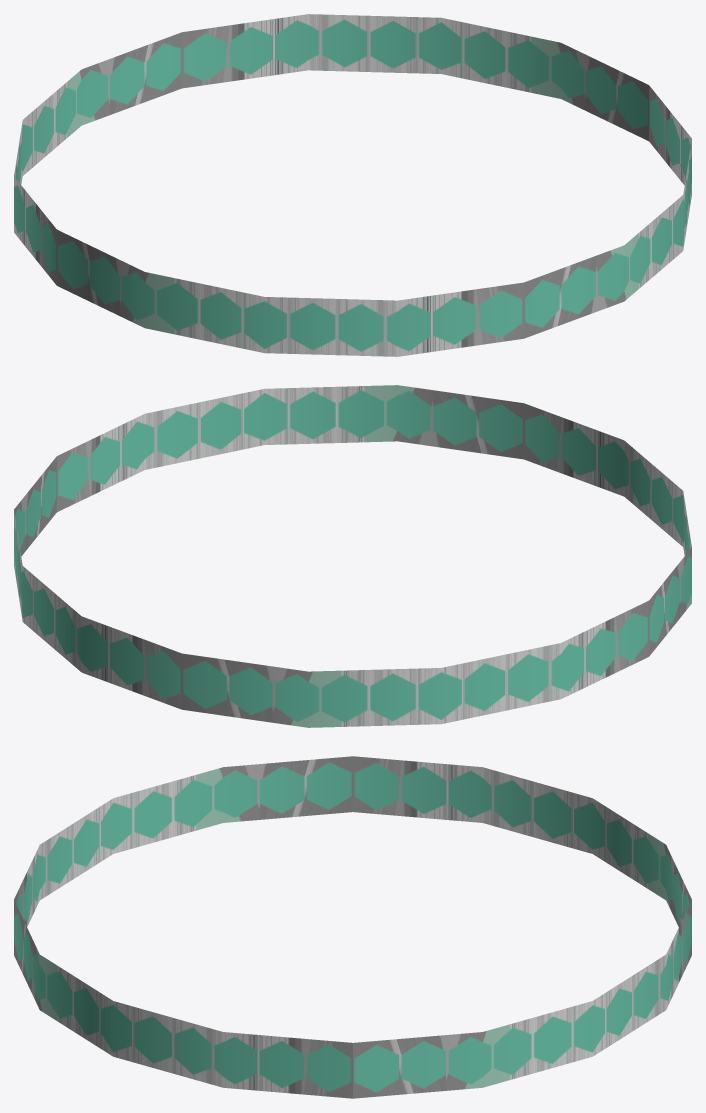
The model's file is Lumo_hexagon_out.fbx.
3 renders of one model, top to bottom at view 1: azimuth 30°, elevation 25°; view 2: azimuth 150°, elevation 25°; view 3: azimuth 270°, elevation 25°, orthographic.
Parts seen in each view (by area): view 1: lumo_hexagon_out; view 2: lumo_hexagon_out; view 3: lumo_hexagon_out.
Part boxes in pixels (x1,y1,x2,y2): lumo_hexagon_out: [14, 14, 691, 356]; lumo_hexagon_out: [14, 385, 691, 727]; lumo_hexagon_out: [14, 756, 691, 1098].
Size of the model in its own units: 85.34 by 7.77 by 85.34.
Materials: 1 (1 with a texture image).
